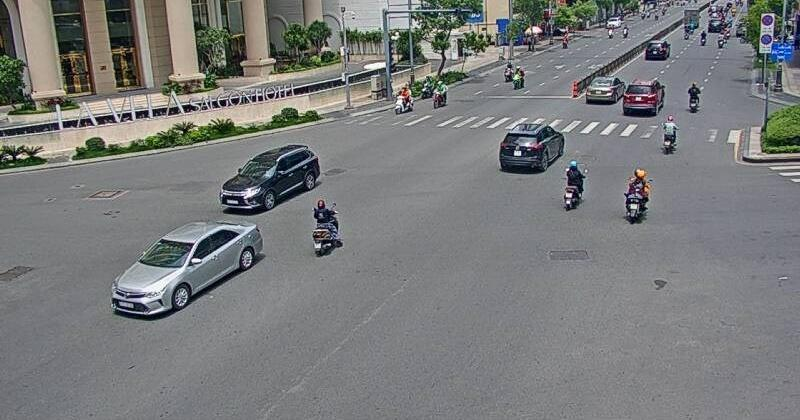xe hoi: (113, 220, 264, 322), (216, 142, 318, 213), (498, 123, 566, 174), (623, 77, 663, 115), (585, 75, 625, 104)
xe may: (311, 197, 343, 257), (624, 167, 653, 225), (660, 115, 677, 155)
